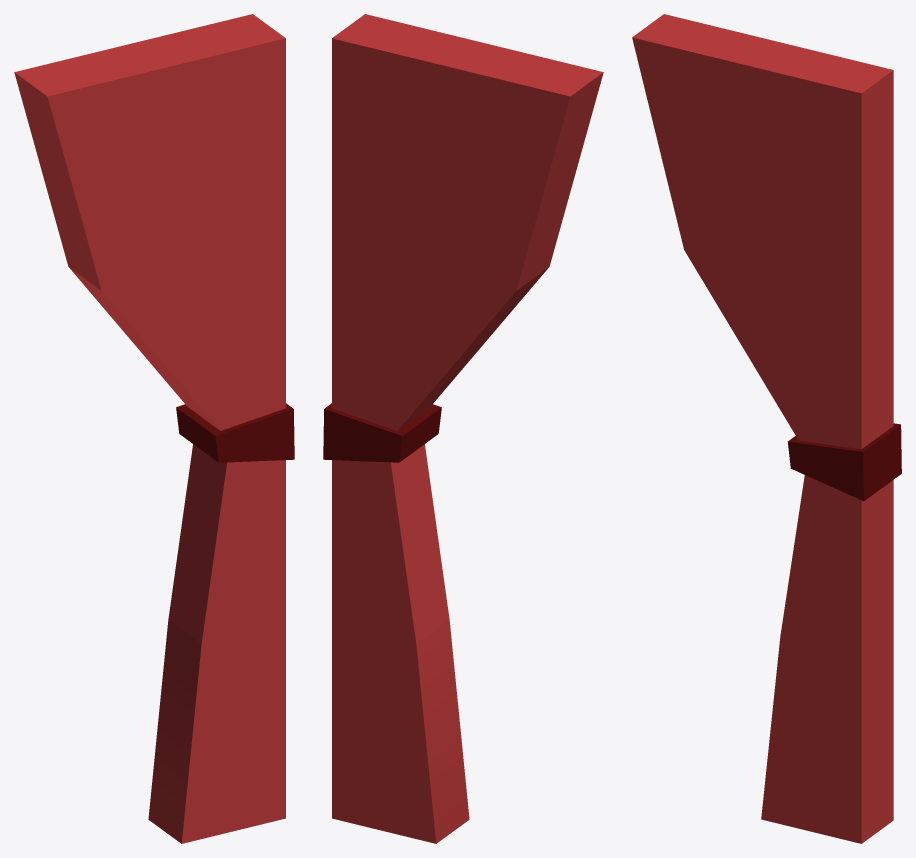
The model's file is Curtain 01 Red.FBX.
3 views of the same model, side by side, from view 1: azimuth 30°, elevation 25°; view 2: azimuth 150°, elevation 25°; view 3: azimuth 330°, elevation 25° (orthographic). The views are drawn at different scales.
Visible parts, largest first — view 1: Curtain 01 Red; view 2: Curtain 01 Red; view 3: Curtain 01 Red.
Part boxes in pixels (x1,y1,x2,y2): Curtain 01 Red: (14, 14, 294, 843); Curtain 01 Red: (323, 14, 603, 843); Curtain 01 Red: (632, 14, 901, 843).
Bounding box in the file's own units: 81.87 × 250 × 22.89.
